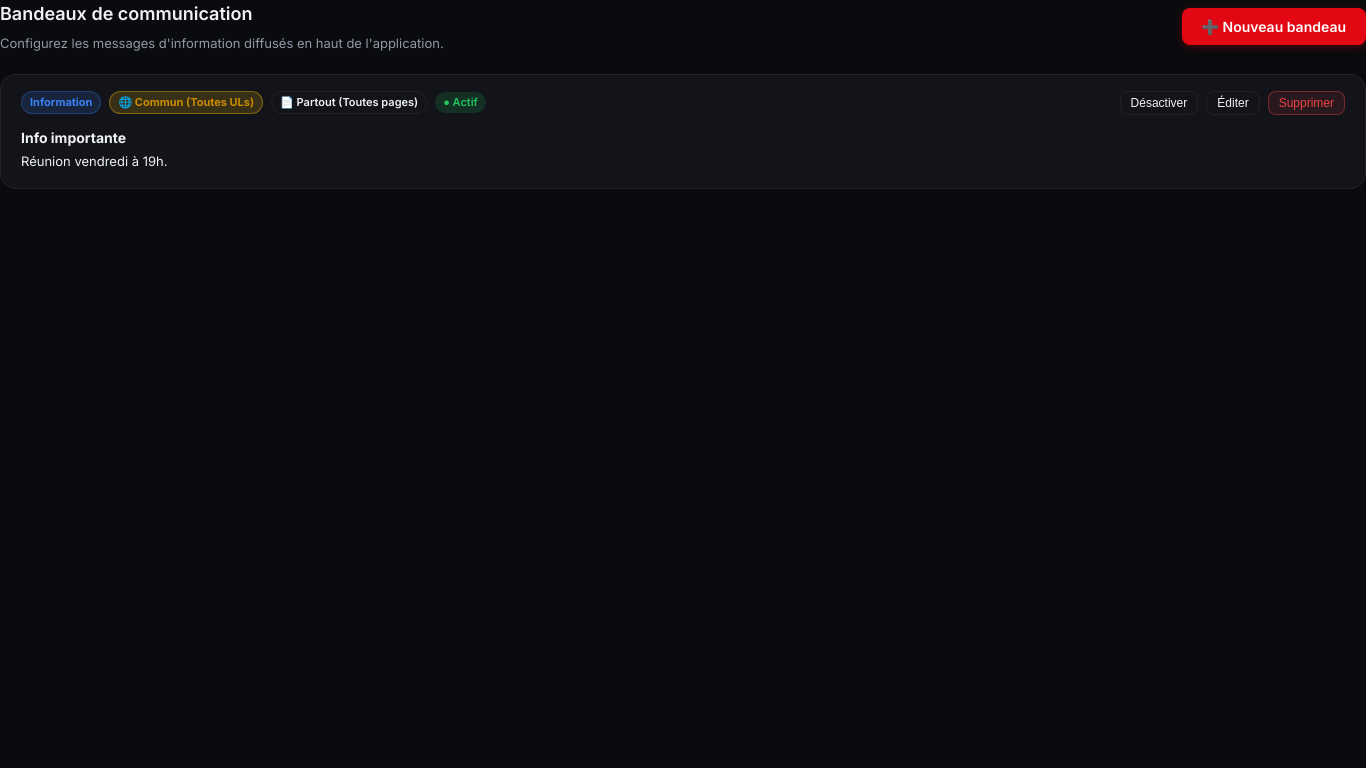
Test: BannersTab › pré-remplit la modale d'édition avec les valeurs du bandeau
The width and height of the screenshot is (1366, 768).
Expected: the text "Info importante" is shown, [21, 129, 126, 146]
Click the button "Éditer" at (1233, 103), box [1206, 91, 1260, 115]
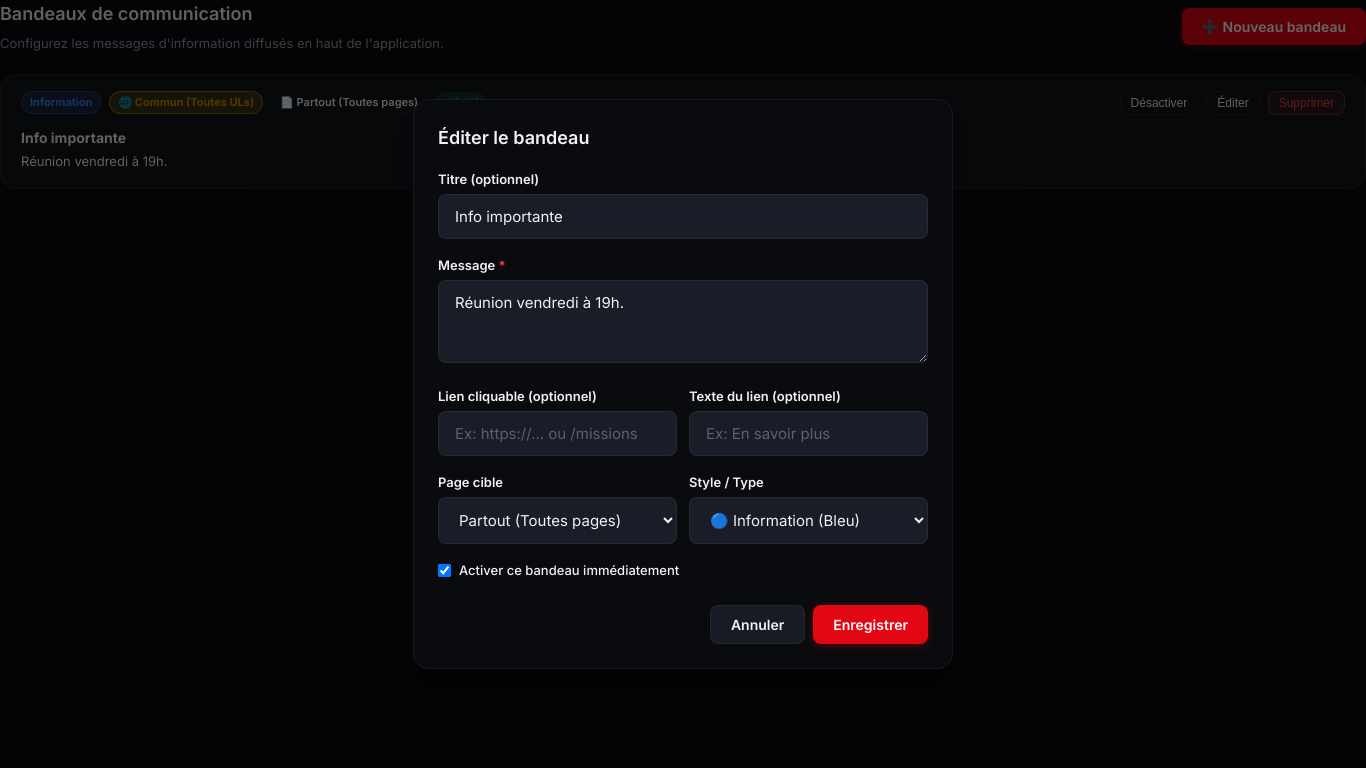
Expected: the heading "Éditer le bandeau" is shown, [438, 127, 589, 148]
Expected: the field showing "Info importante" is shown, [438, 194, 928, 239]
Expected: the text box showing "Réunion vendredi à 19h." is shown, [438, 280, 928, 363]
